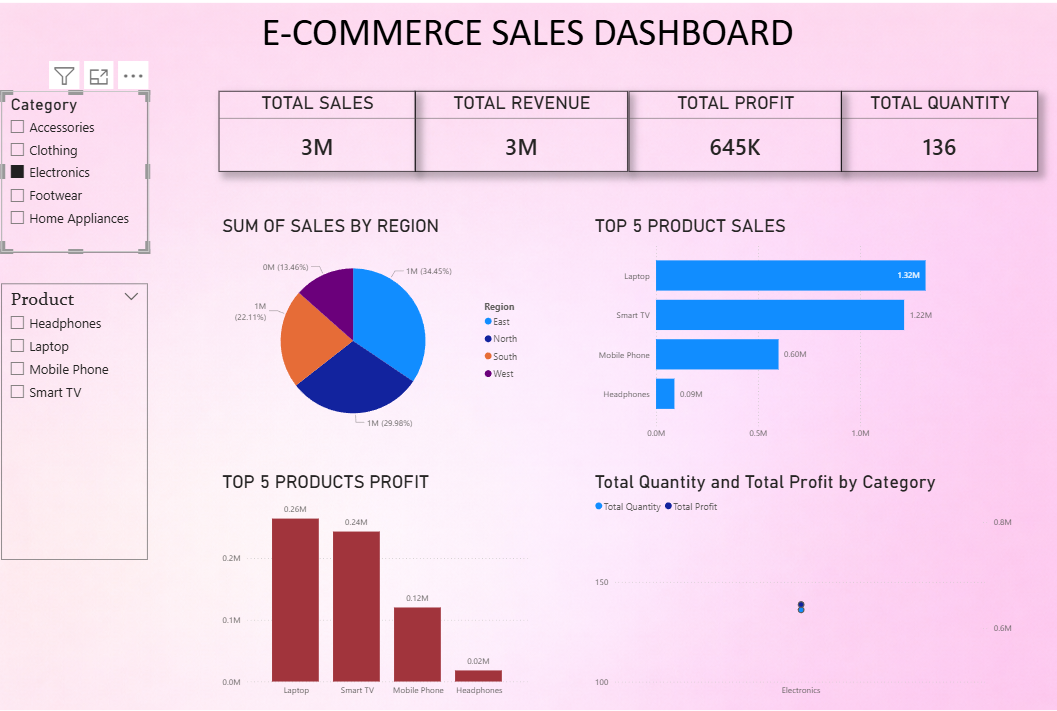

Layout of this report page (visuals, bound fields, positions):
{"tool":"powerbi","page":{"name":"Page 1","canvas":[1920,1080],"ordinal":0},"visuals":[{"type":"textbox","box":[198,28,1524,84],"z":0},{"type":"slicer","fields":{"Values":["Sheet1.Category"]},"box":[198,152,212,234],"z":1},{"type":"slicer","fields":{"Values":["Sheet1.Product"]},"box":[198,430,212,400],"z":2},{"type":"pieChart","title":"SUM OF SALES BY REGION","fields":{"Category":["Sheet1.Region"],"Y":["Sum(Sheet1.Sales)"]},"box":[511.7,331.7,453.3,335],"z":3},{"type":"cardVisual","title":"TOTAL SALES","fields":{"Data":["Sheet1.Total Sales"]},"box":[511.7,151.7,285,116.7],"z":4},{"type":"cardVisual","title":"TOTAL REVENUE","fields":{"Data":["Sheet1.Total Revenue"]},"box":[796.7,151.7,308.3,116.7],"z":5},{"type":"cardVisual","title":"TOTAL QUANTITY","fields":{"Data":["Sheet1.Total Quantity"]},"box":[1413.3,151.7,285,116.7],"z":6},{"type":"cardVisual","title":"TOTAL PROFIT","fields":{"Data":["Sheet1.Total Profit"]},"box":[1105,151.7,308.3,116.7],"z":7},{"type":"clusteredBarChart","title":"TOP 5 PRODUCT SALES","fields":{"Category":["Sheet1.Product"],"Y":["Sheet1.Total Sales"]},"box":[1051.7,331.7,528.3,335],"z":8},{"type":"clusteredColumnChart","title":"TOP 5 PRODUCTS PROFIT","fields":{"Category":["Sheet1.Product"],"Y":["Sheet1.Total Profit"]},"box":[511.7,701.7,453.3,335],"z":9},{"type":"lineChart","fields":{"Category":["Sheet1.Category"],"Y2":["Sheet1.Total Profit"],"Y":["Sheet1.Total Quantity"]},"box":[1051.7,701.7,615,335],"z":10}]}

Visuals, with their boxes on the page's 1920x1080 design canvas (x1, y1, x2, y2). These are canvas units, not pixel positions in the 1057x711 screenshot, which may show the page scaled, cropped or inside an application window:
textbox: box(198, 28, 1722, 112)
slicer - Sheet1.Category: box(198, 152, 410, 386)
slicer - Sheet1.Product: box(198, 430, 410, 830)
"SUM OF SALES BY REGION" pieChart: box(512, 332, 965, 667)
"TOTAL SALES" cardVisual: box(512, 152, 797, 268)
"TOTAL REVENUE" cardVisual: box(797, 152, 1105, 268)
"TOTAL QUANTITY" cardVisual: box(1413, 152, 1698, 268)
"TOTAL PROFIT" cardVisual: box(1105, 152, 1413, 268)
"TOP 5 PRODUCT SALES" clusteredBarChart: box(1052, 332, 1580, 667)
"TOP 5 PRODUCTS PROFIT" clusteredColumnChart: box(512, 702, 965, 1037)
lineChart - Sheet1.Category x Sheet1.Total Profit: box(1052, 702, 1667, 1037)
